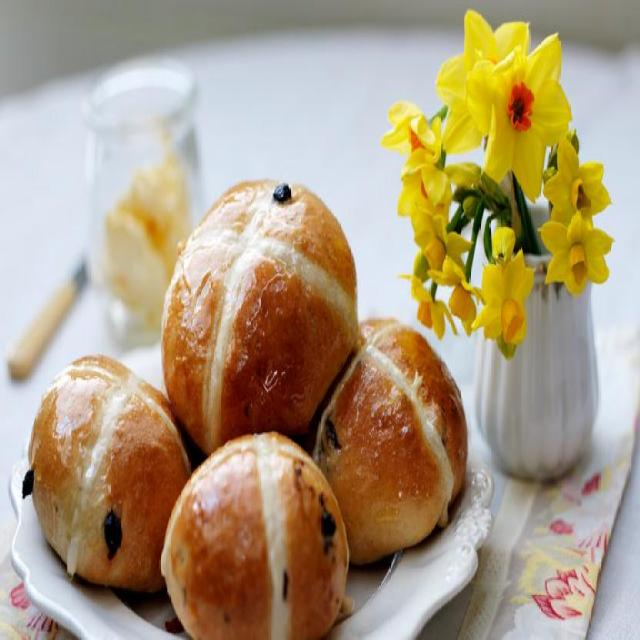Bun: (157, 168, 360, 454), (22, 344, 191, 602), (300, 309, 468, 566), (158, 431, 356, 640)
